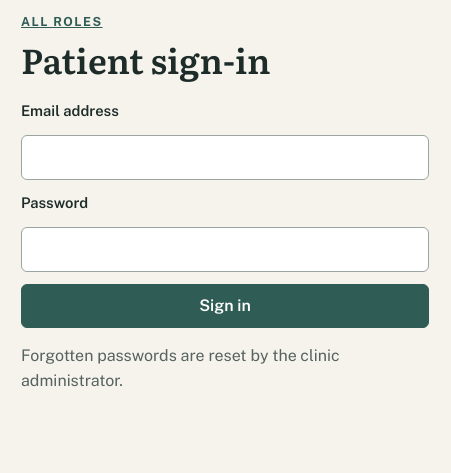
it: login shows the server error and stays on the form
This screenshot has width=451, height=473.
Type "avery@clinic.example.test" into the field labelled "Email address".
click(225, 158); type("avery@clinic.example.test")  # box [21,135,429,180]
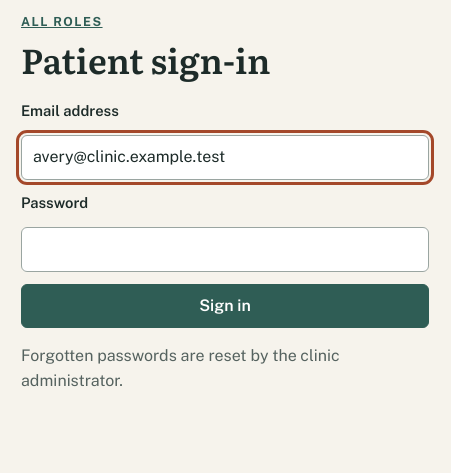
Type "wrong-password" into the password field labelled "Password".
click(225, 249); type("wrong-password")  # box [21,227,429,272]
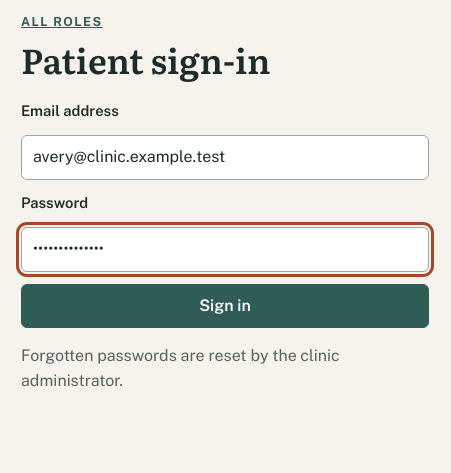
Click the button "Sign in".
click(225, 306)  # box [21,284,429,328]
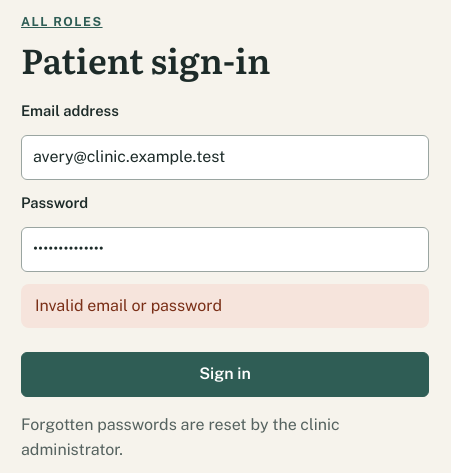
Expected: the button "Sign in" is enabled, [21,352,429,397]
Now the message reads "Invalid email or password", box [35,296,222,315]
